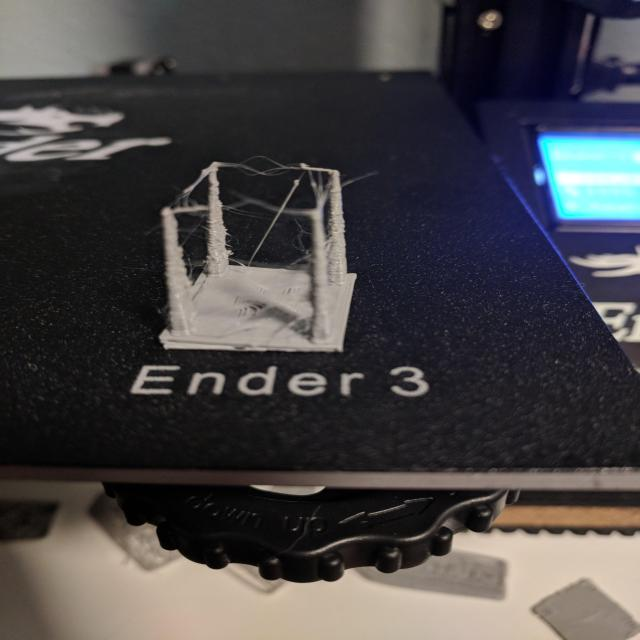Stringing: (148, 156, 355, 326)
